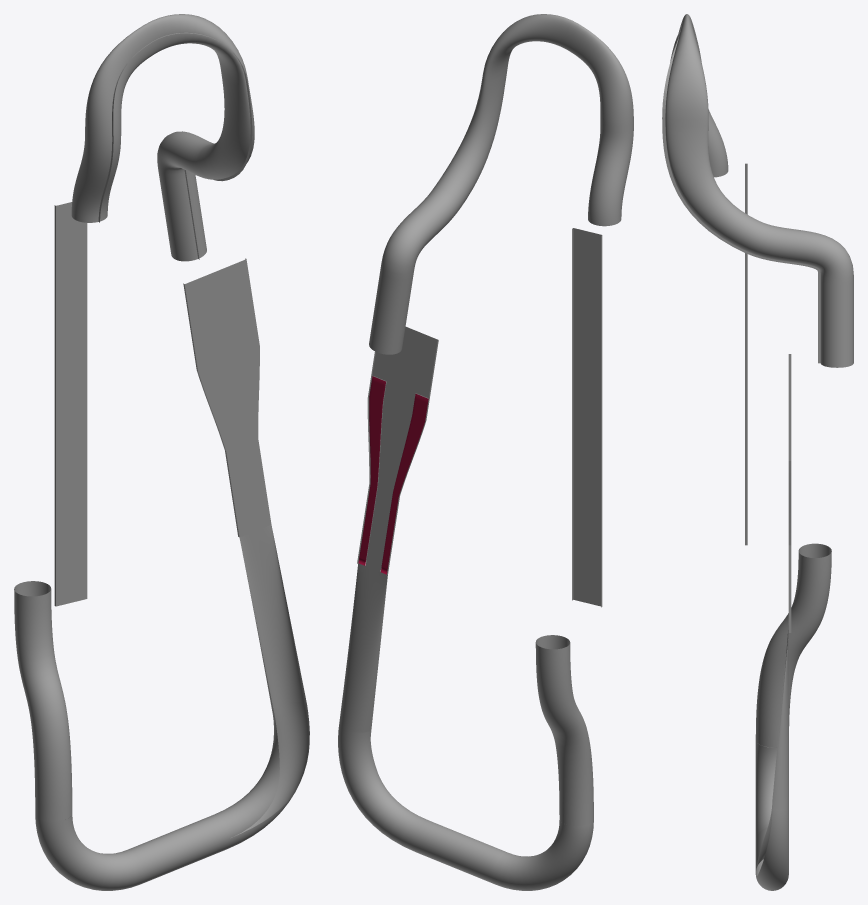
File: track.obj
The picture shows the model from 3 angles, left to right: view 1: azimuth 30°, elevation 25°; view 2: azimuth 150°, elevation 25°; view 3: azimuth 270°, elevation 25°; orthographic projection. The views are drawn at different scales.
Visible parts, largest first — view 1: MXTRoadSegment.003_PreviewMesh, MXTRoadSegment.006_PreviewMesh, MXTRoadSegment.027_PreviewMesh, MXTRoadSegment.032_PreviewMesh, MXTRoadSegment.009_PreviewMesh, MXTRoadSegment.000_PreviewMesh, MXTRoadSegment.015_PreviewMesh, MXTRoadSegment.022_PreviewMesh, MXTRoadSegment.019_PreviewMesh; view 2: MXTRoadSegment.003_PreviewMesh, MXTRoadSegment.006_PreviewMesh, MXTRoadSegment.027_PreviewMesh, MXTRoadSegment.032_PreviewMesh, MXTRoadSegment.000_PreviewMesh, MXTRoadSegment.009_PreviewMesh, MXTRoadSegment.015_PreviewMesh, MXTRoadSegment.022_PreviewMesh, MXTRoadSegment.019_PreviewMesh; view 3: MXTRoadSegment.003_PreviewMesh, MXTRoadSegment.027_PreviewMesh, MXTRoadSegment.015_PreviewMesh, MXTRoadSegment.009_PreviewMesh, MXTRoadSegment.022_PreviewMesh, MXTRoadSegment.006_PreviewMesh, MXTRoadSegment.032_PreviewMesh, MXTRoadSegment.000_PreviewMesh.
Part boxes in pixels (<box>): MXTRoadSegment.003_PreviewMesh: <box>71,14,254,261</box>; MXTRoadSegment.006_PreviewMesh: <box>183,258,271,537</box>; MXTRoadSegment.027_PreviewMesh: <box>14,581,72,821</box>; MXTRoadSegment.032_PreviewMesh: <box>54,380,87,606</box>; MXTRoadSegment.009_PreviewMesh: <box>239,524,306,716</box>; MXTRoadSegment.000_PreviewMesh: <box>54,202,87,387</box>; MXTRoadSegment.015_PreviewMesh: <box>214,702,309,848</box>; MXTRoadSegment.022_PreviewMesh: <box>35,814,143,890</box>; MXTRoadSegment.019_PreviewMesh: <box>128,814,229,883</box>; MXTRoadSegment.003_PreviewMesh: <box>369,14,633,354</box>; MXTRoadSegment.006_PreviewMesh: <box>357,327,438,575</box>; MXTRoadSegment.027_PreviewMesh: <box>535,635,593,826</box>; MXTRoadSegment.032_PreviewMesh: <box>572,397,602,607</box>; MXTRoadSegment.000_PreviewMesh: <box>572,228,602,404</box>; MXTRoadSegment.009_PreviewMesh: <box>339,563,387,732</box>; MXTRoadSegment.015_PreviewMesh: <box>338,722,427,851</box>; MXTRoadSegment.022_PreviewMesh: <box>493,820,593,890</box>; MXTRoadSegment.019_PreviewMesh: <box>413,820,507,884</box>; MXTRoadSegment.003_PreviewMesh: <box>662,14,853,367</box>; MXTRoadSegment.027_PreviewMesh: <box>755,543,831,747</box>; MXTRoadSegment.015_PreviewMesh: <box>755,800,788,890</box>; MXTRoadSegment.009_PreviewMesh: <box>772,626,788,810</box>; MXTRoadSegment.022_PreviewMesh: <box>755,740,777,842</box>; MXTRoadSegment.006_PreviewMesh: <box>788,354,791,632</box>; MXTRoadSegment.032_PreviewMesh: <box>745,344,747,545</box>; MXTRoadSegment.000_PreviewMesh: <box>745,163,747,344</box>.
Bounding box in the file's own units: 778 × 2487 × 519.
